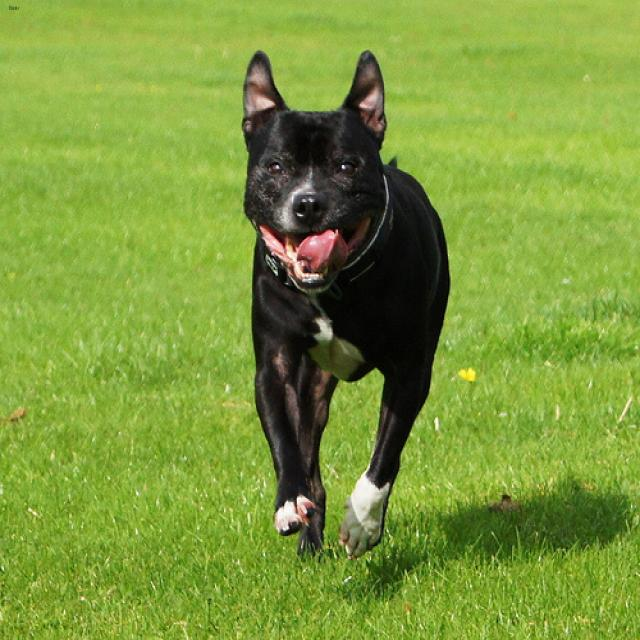dog-staffordshire_bull_terrier: (234, 40, 458, 565)
